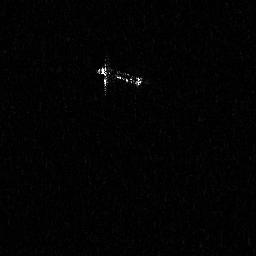ship: (96, 57, 143, 95)
